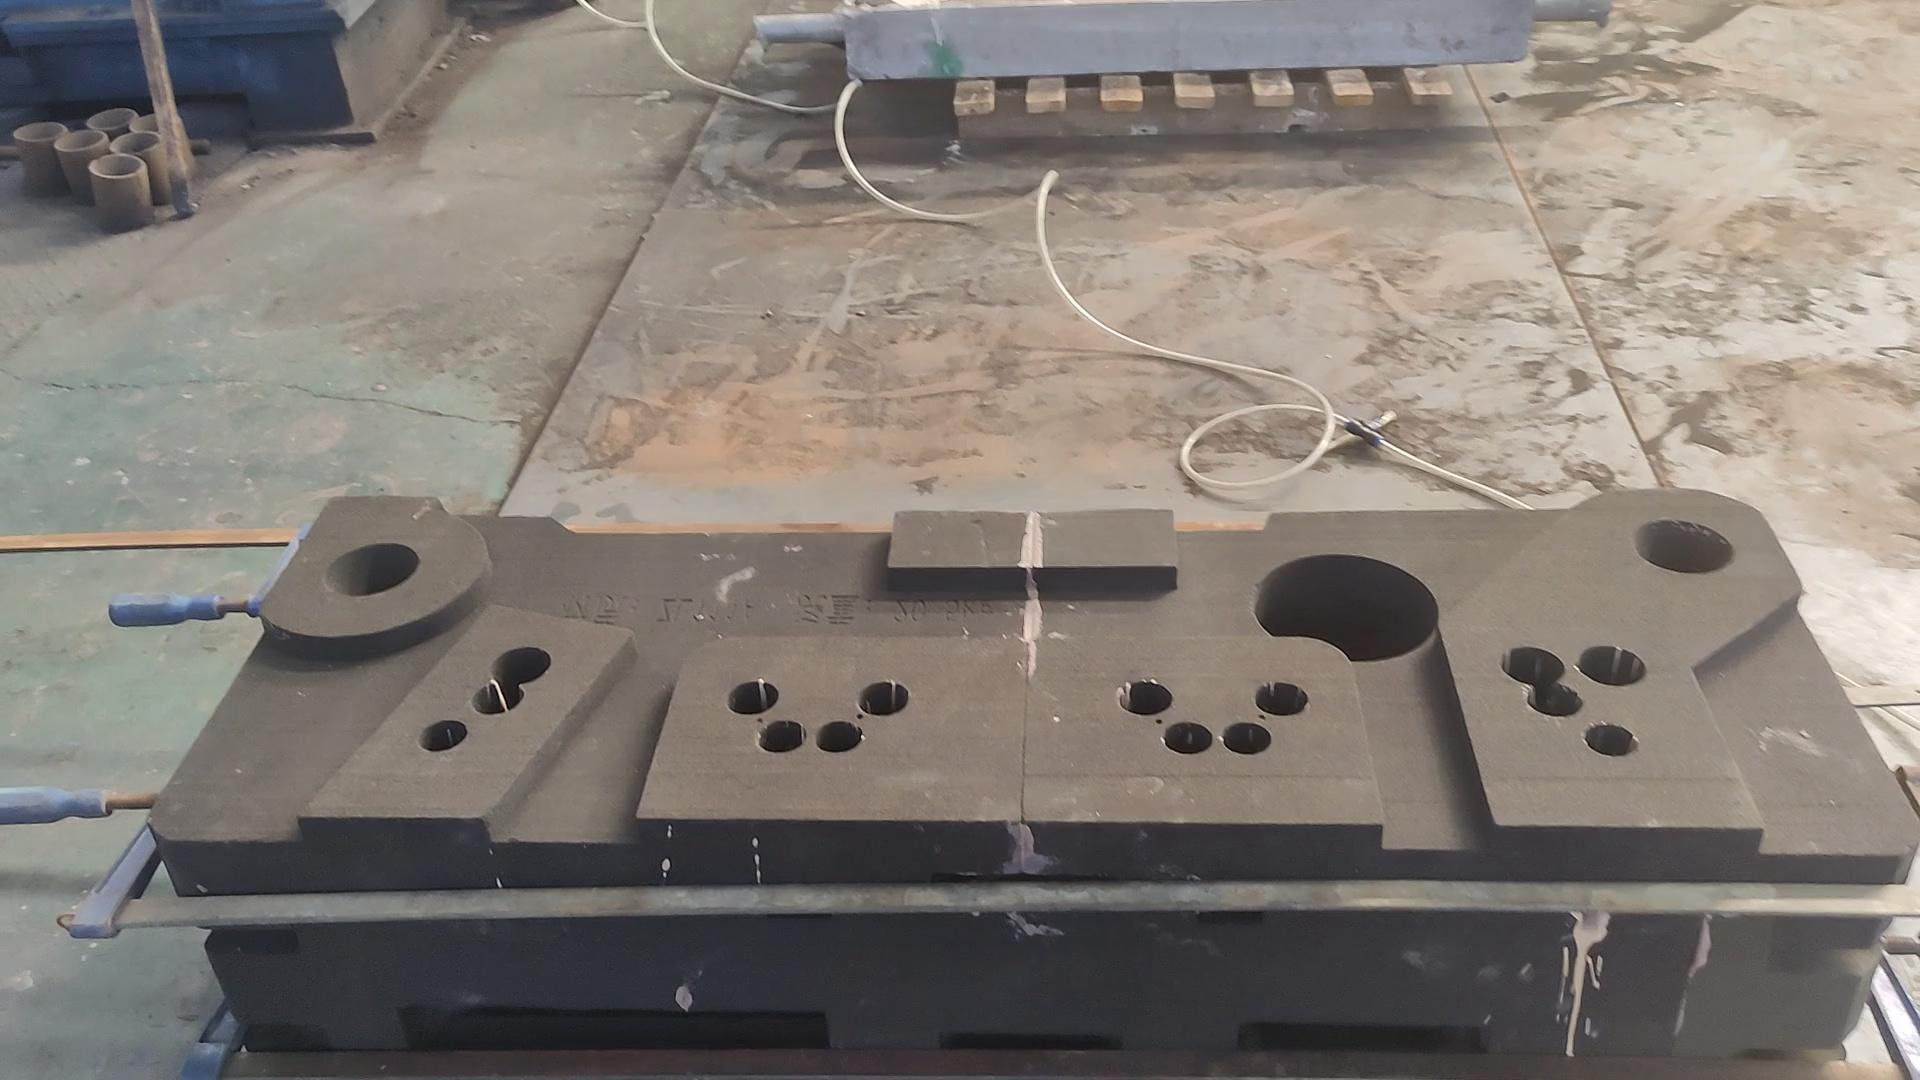pouring hole: (1634, 520, 1737, 574), (323, 543, 422, 596), (109, 128, 162, 154), (84, 105, 135, 131), (88, 152, 141, 175), (128, 112, 183, 133), (54, 131, 105, 150), (12, 121, 65, 140)
